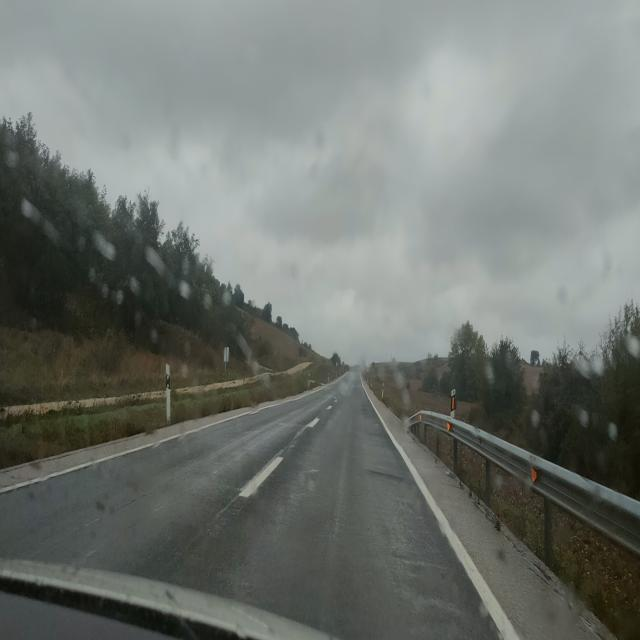Poth-hole: (364, 458, 400, 490)
